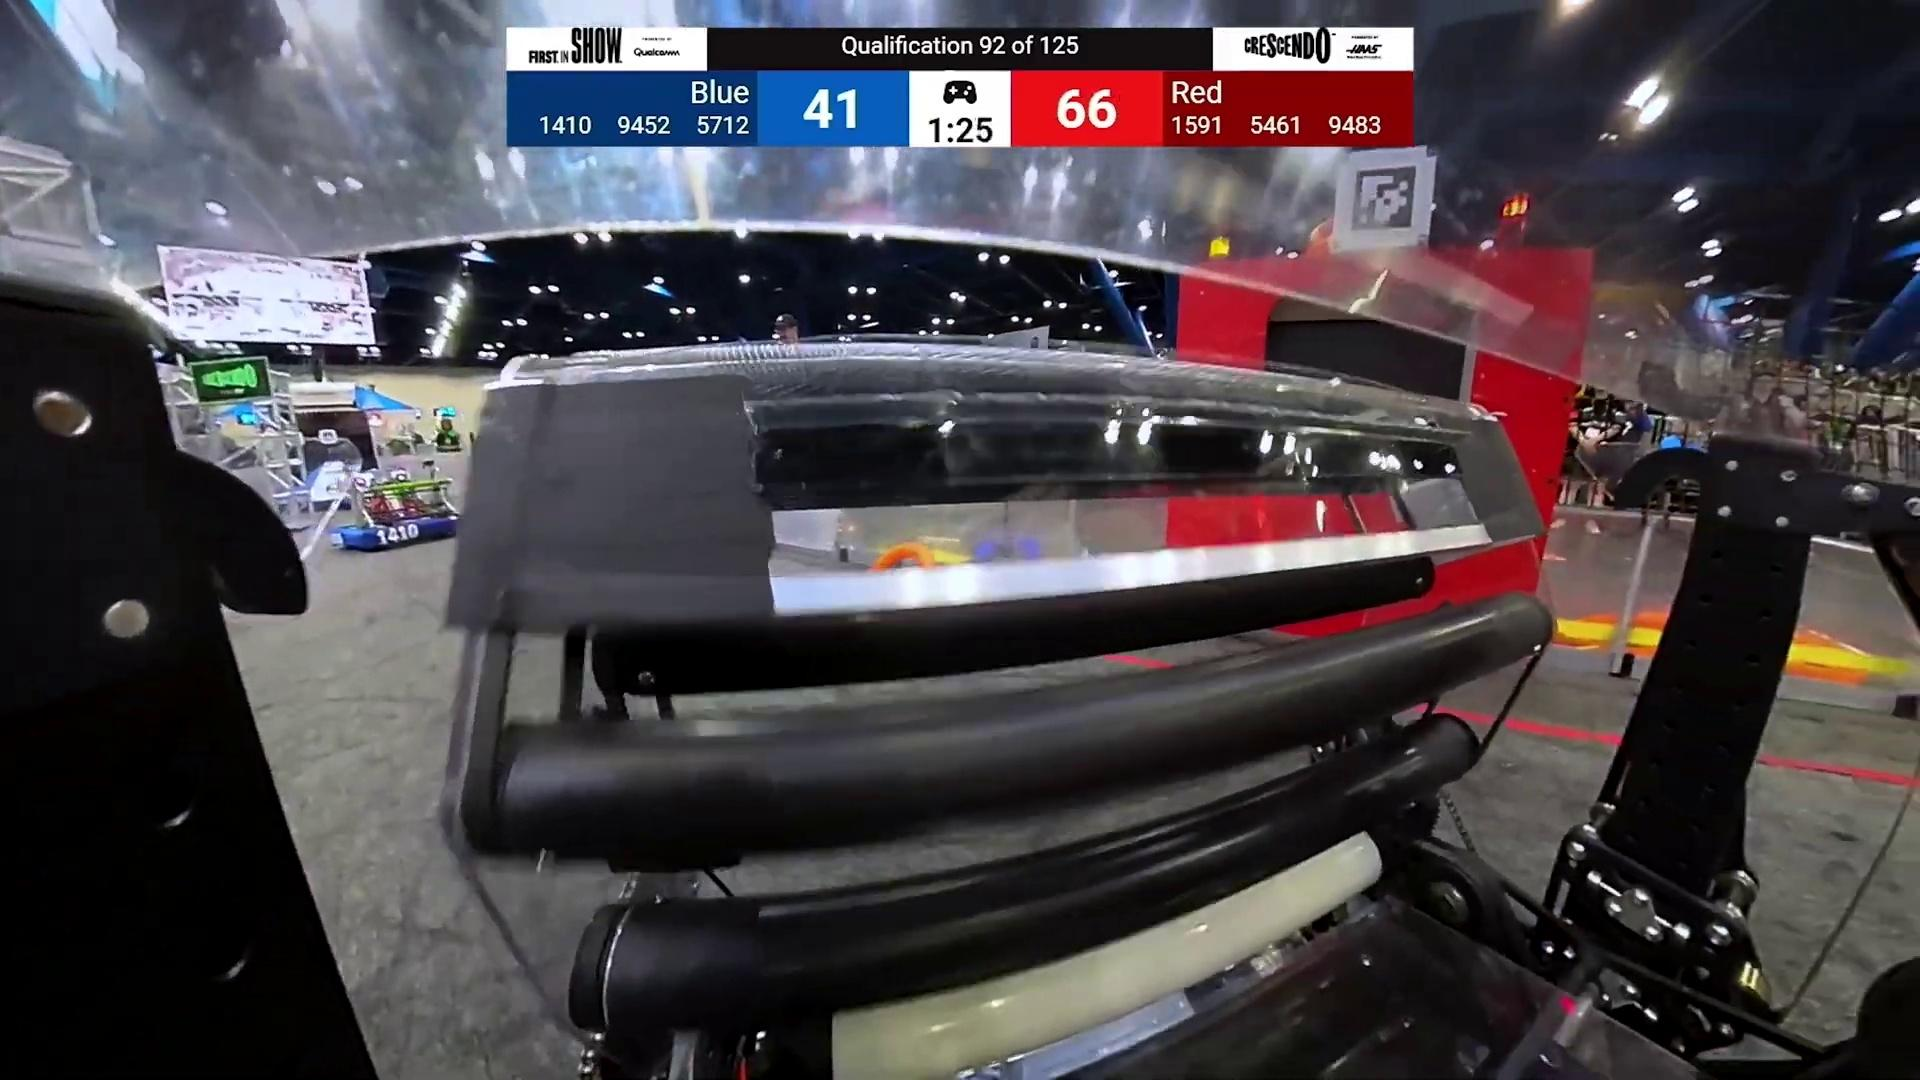robot: (328, 459, 459, 551)
